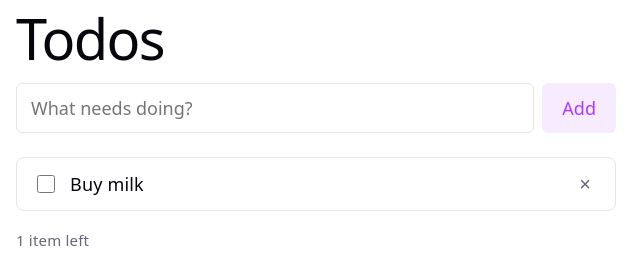
Scenario: deleting a todo › removes the todo from the list
Expected: the text "Buy milk" is shown, 70,172 -> 144,196
Click the button named "Delete \"Buy milk\"" at (585, 184), box 571,170 -> 599,198
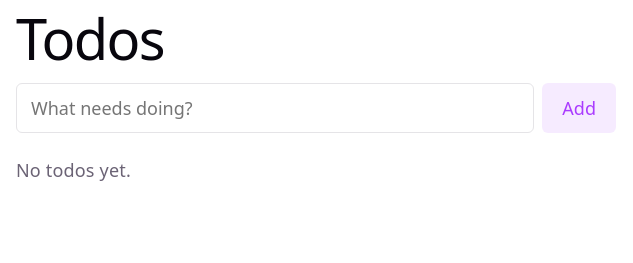
Now the text "Buy milk" is gone
